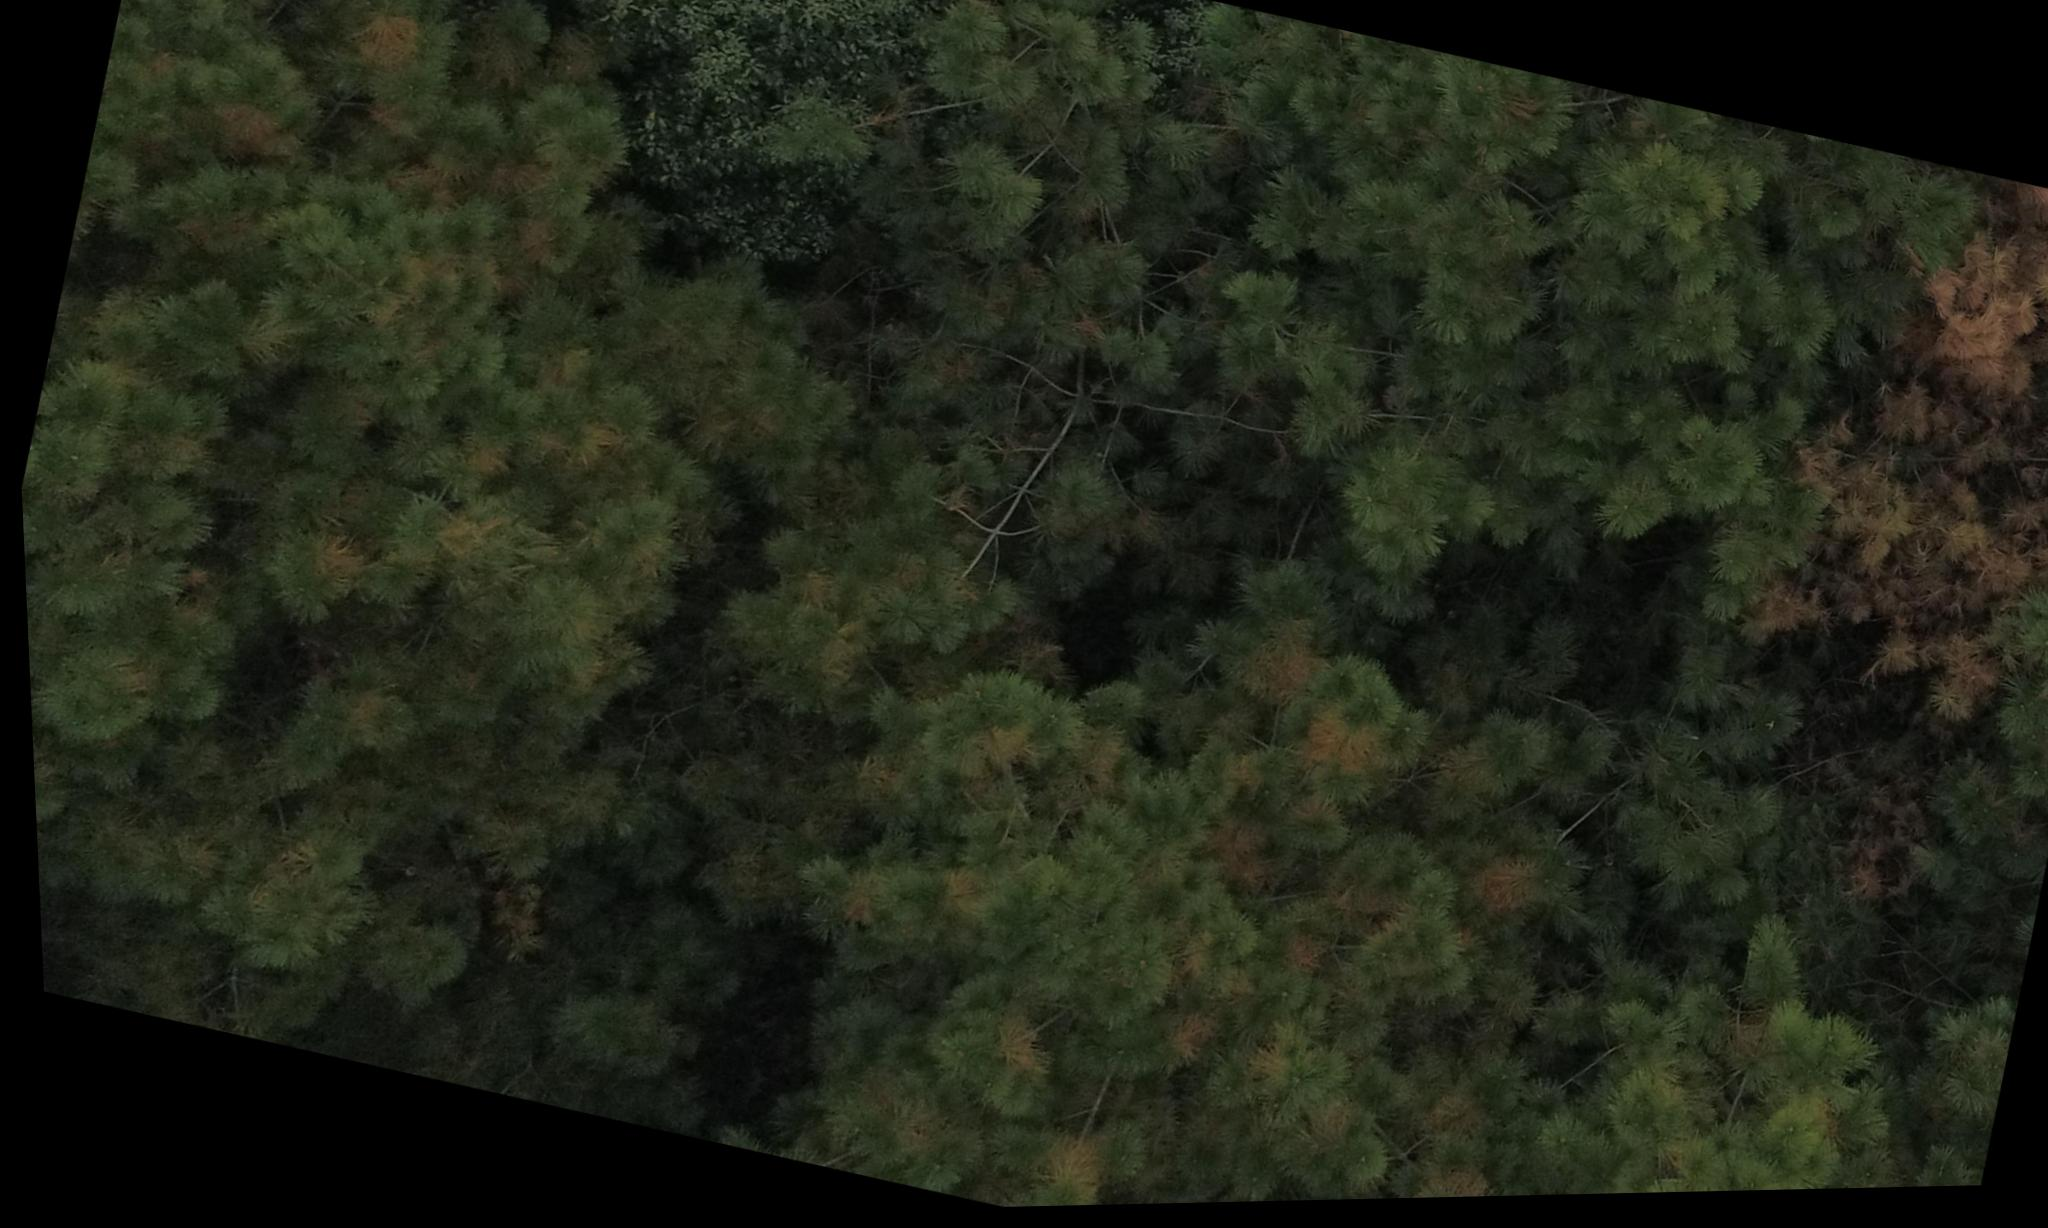heavy: (1836, 177, 2048, 620)
light: (0, 0, 811, 1036), (857, 573, 1571, 1213)
